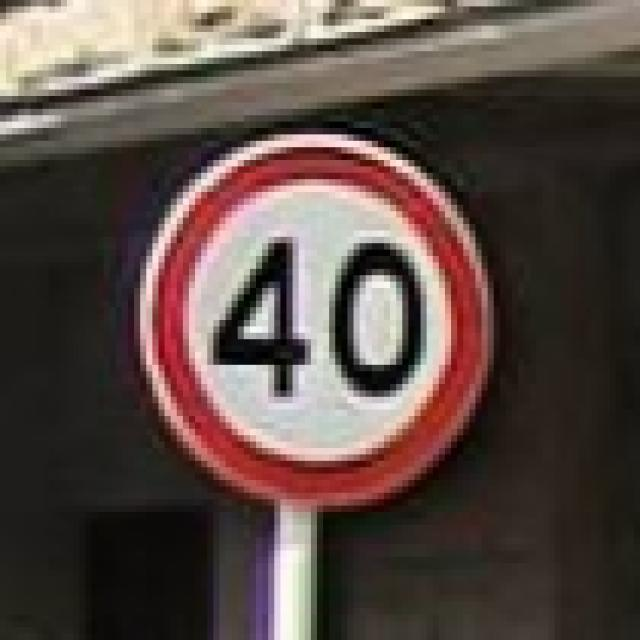Speed Limit -40-: (206, 238, 437, 405)
